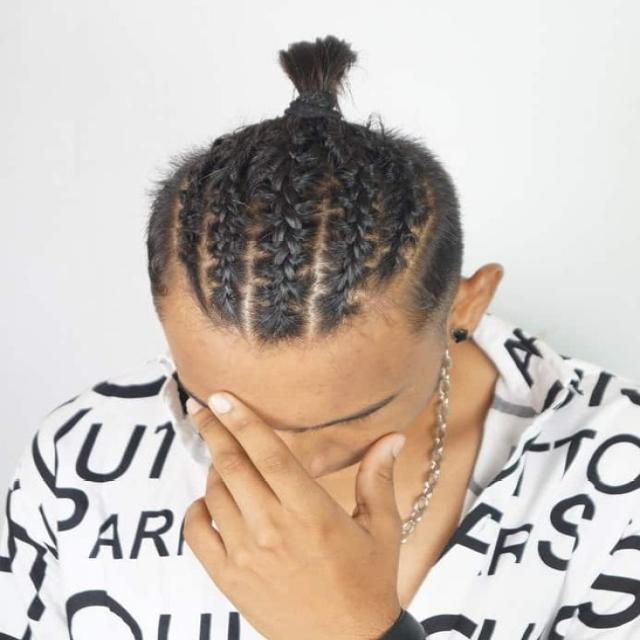Nonhelmet: (142, 33, 466, 490)
